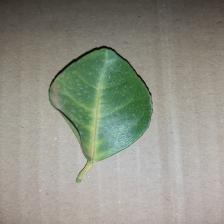greening: (45, 42, 158, 184)
